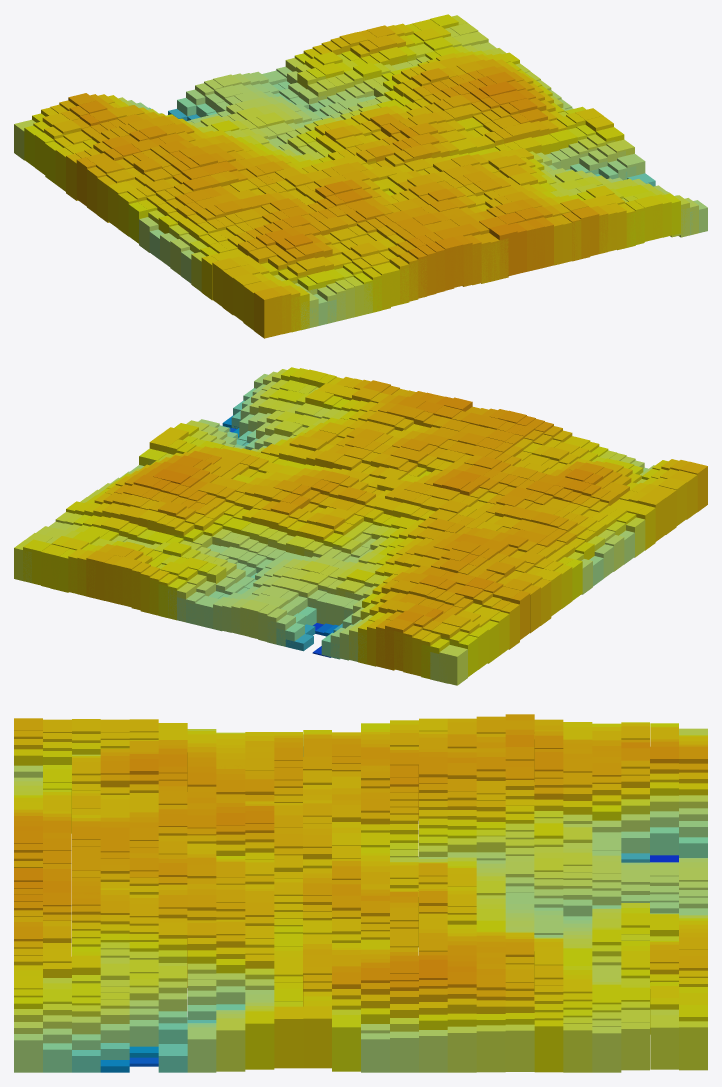
File: population.glb
3 renders of one model, top to bottom at view 1: azimuth 30°, elevation 25°; view 2: azimuth 150°, elevation 25°; view 3: azimuth 270°, elevation 25°, orthographic. The views are drawn at different scales.
Parts seen in each view (by area): view 1: population; view 2: population; view 3: population.
Boxes of the visible parts, x1,y1,x2,y2 form: population: (14,14,707,338); population: (14,367,707,685); population: (14,714,707,1072).
Bounding box in the file's own units: 2457 × 253 × 2402.
